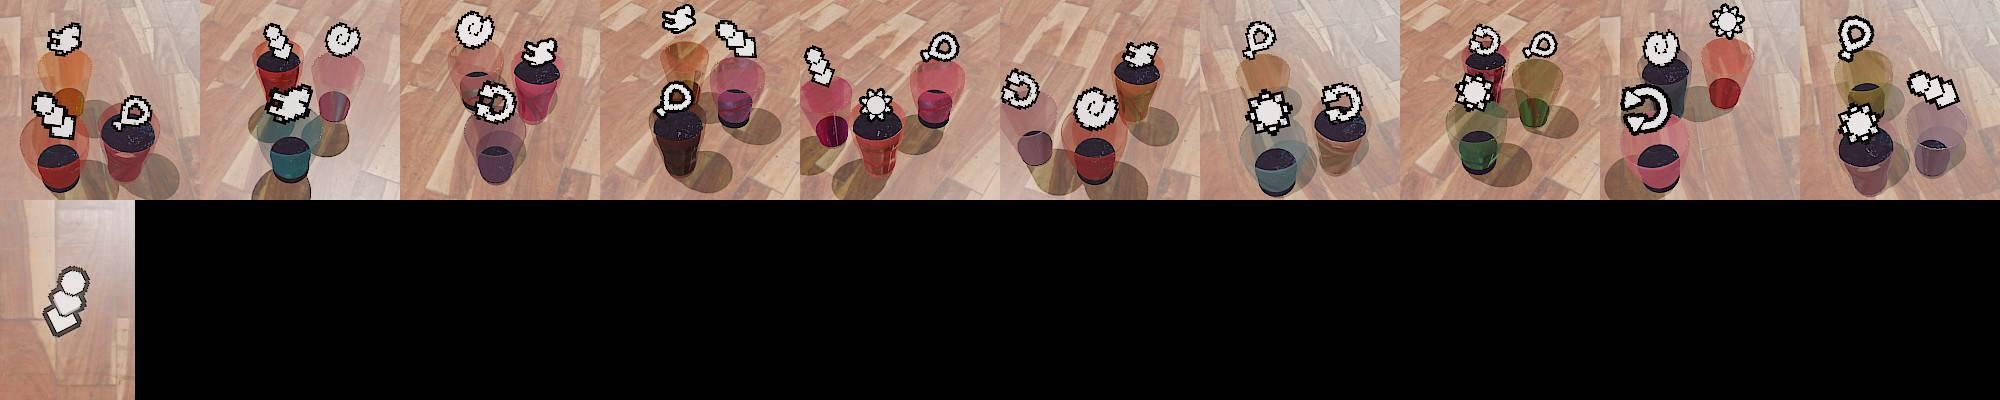icon: (40, 262, 92, 339), (1620, 83, 1672, 135), (1244, 88, 1293, 136), (29, 90, 77, 141), (1904, 69, 1960, 110), (1070, 85, 1119, 131), (472, 79, 517, 124), (265, 83, 314, 124), (1319, 80, 1362, 124), (653, 80, 698, 121), (1837, 103, 1881, 144), (1835, 15, 1875, 61), (999, 68, 1040, 111), (716, 19, 759, 59), (1453, 71, 1496, 111), (454, 10, 495, 50), (1642, 28, 1681, 69), (1464, 22, 1504, 60), (1242, 19, 1278, 60), (855, 87, 895, 122), (112, 94, 153, 130), (324, 20, 361, 59), (261, 22, 297, 61), (802, 45, 835, 87), (920, 31, 960, 64), (47, 20, 84, 56), (1708, 4, 1745, 39), (1120, 39, 1159, 71), (1520, 29, 1560, 61), (519, 36, 559, 66), (661, 4, 696, 36)
